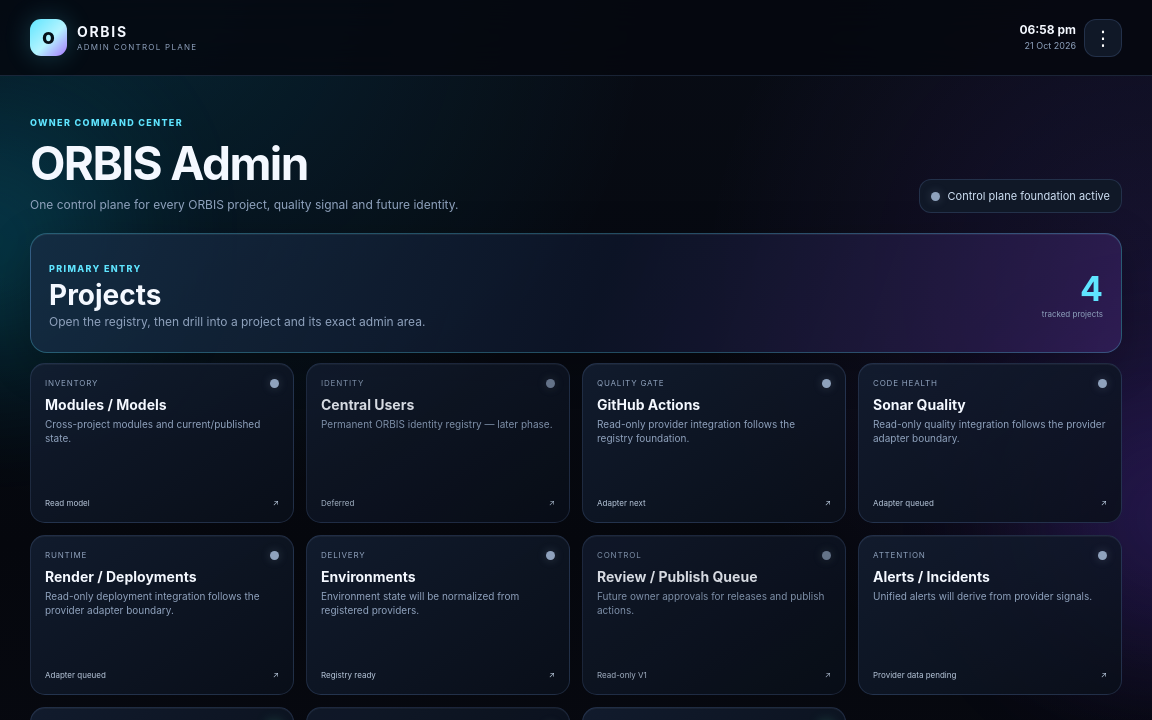
Test: ORBIS Admin V1 shell backed by the registry API › shows API-backed project registry, project details and a derived GitHub link
Expected: the heading "ORBIS Admin" is shown, [30,135,308,191]
Click the link "Projects Open the registry" at {"x": 95, "y": 269}, box [30,233,1122,353]
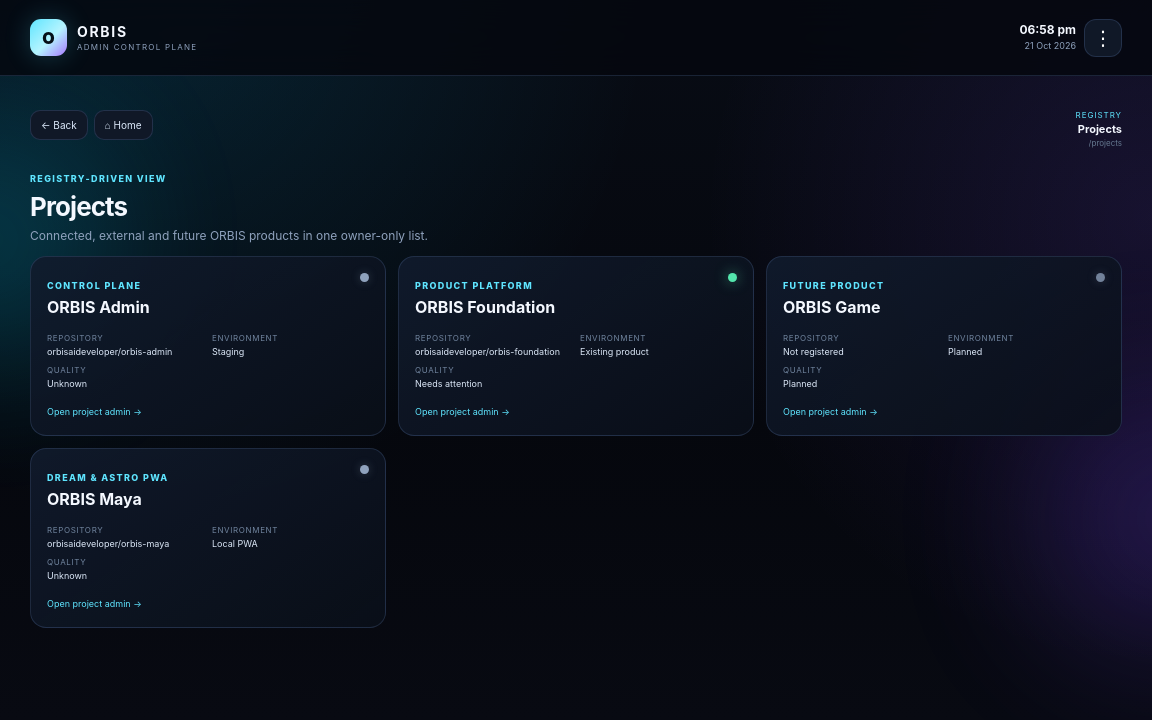
Expected: the heading "Projects" is shown, [30,191,127,222]
Click the link "Control Plane ORBIS Admin" at {"x": 94, "y": 286}, box [30,256,386,436]
(page scrolled)
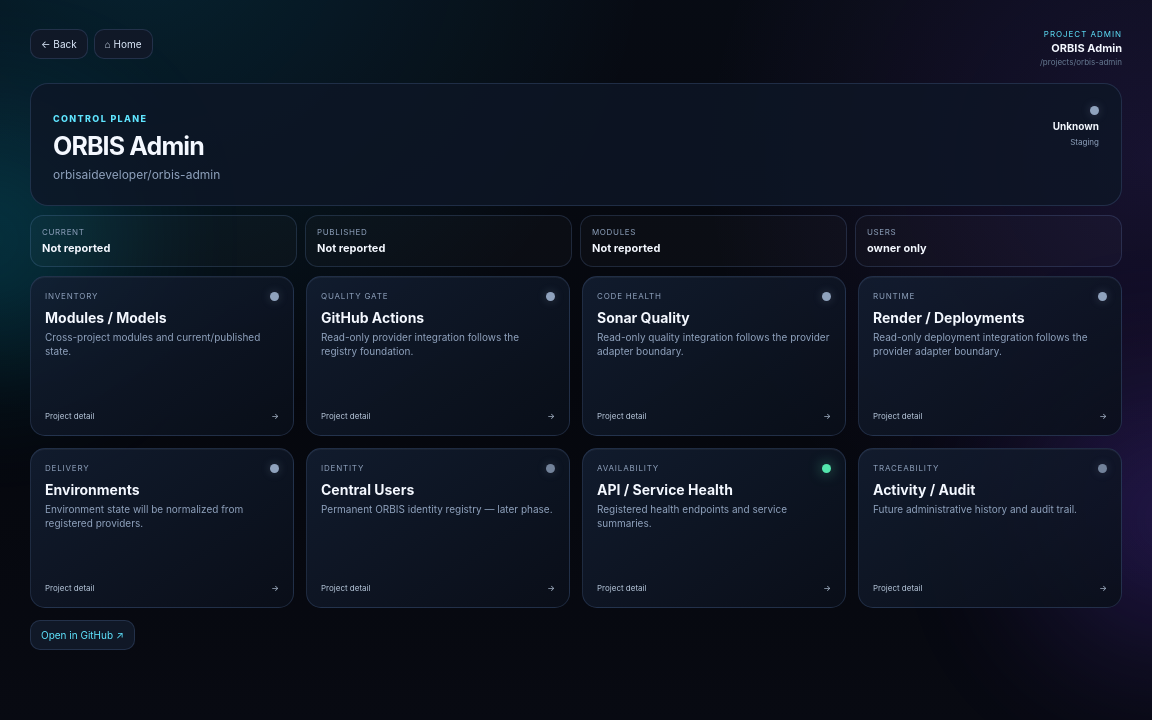
Expected: the heading "ORBIS Admin" is shown, [53,131,220,161]
Expected: the 1st text "Not reported" is shown, [42,241,110,255]
